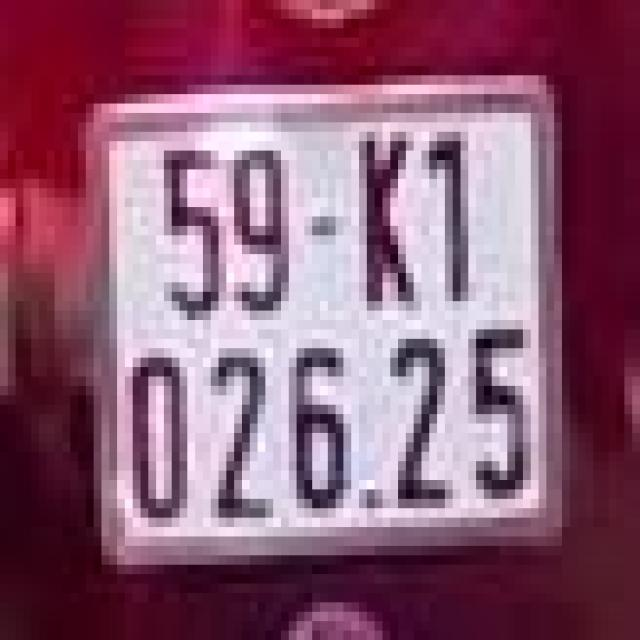0: (125, 339, 195, 527)
1: (425, 127, 480, 315)
2: (371, 315, 456, 513), (207, 338, 269, 518)
5: (461, 306, 546, 522), (140, 136, 227, 324)
6: (285, 334, 355, 522)
9: (230, 142, 300, 330)
K: (340, 113, 426, 311)
